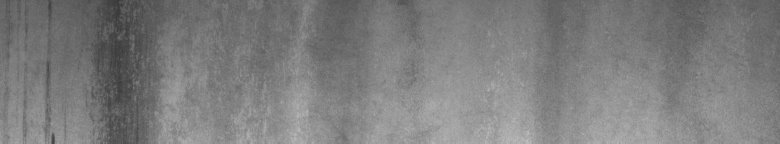ka: (23, 4, 152, 136)
